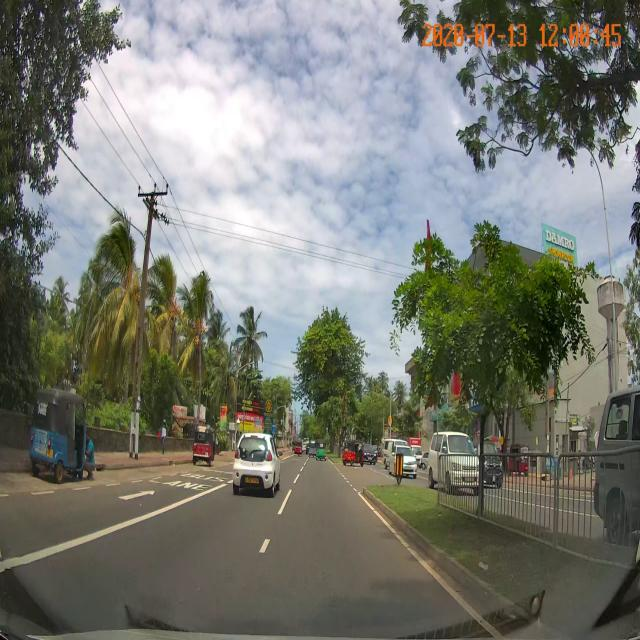BUS LANE: (147, 473, 230, 490)
Strelka vpered: (118, 490, 155, 500)
